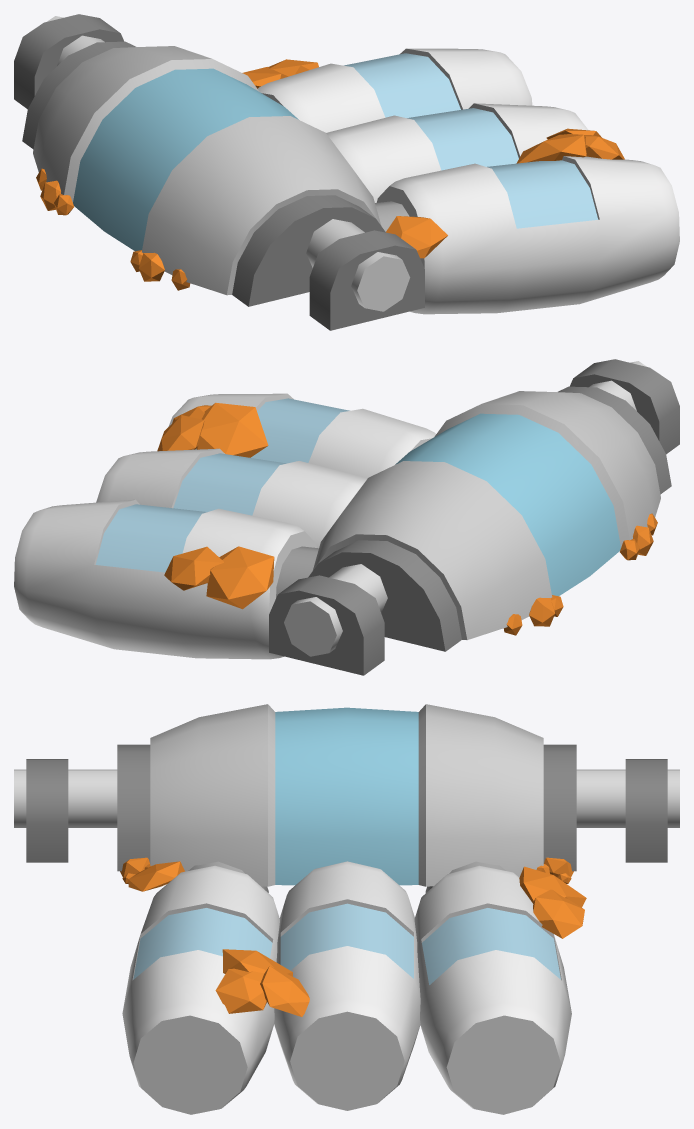
File: GreenHouse.glb
The picture shows the model from 3 angles, top to bottom: view 1: azimuth 30°, elevation 25°; view 2: azimuth 150°, elevation 25°; view 3: azimuth 270°, elevation 25°; orthographic projection.
Parts seen in each view (by area): view 1: Cylinder.033, Sphere, Cube.047, Tunnel.011; view 2: Cylinder.033, Sphere, Cube.047, Tunnel.011; view 3: Cylinder.033, Sphere, Cube.047, Tunnel.011.
Part boxes in pixels (bbox=[...]): Cylinder.033: bbox=[242, 48, 679, 314]; Sphere: bbox=[22, 41, 385, 306]; Cube.047: bbox=[14, 14, 424, 330]; Tunnel.011: bbox=[47, 16, 410, 311]; Cylinder.033: bbox=[14, 393, 435, 659]; Sphere: bbox=[308, 386, 671, 651]; Cube.047: bbox=[269, 359, 679, 675]; Tunnel.011: bbox=[284, 361, 646, 656]; Cylinder.033: bbox=[122, 861, 586, 1114]; Sphere: bbox=[117, 704, 576, 886]; Cube.047: bbox=[26, 759, 667, 862]; Tunnel.011: bbox=[14, 769, 679, 827].
Size of the model in its own units: 5.21 by 2.27 by 6.
1 material, 1 textured.
